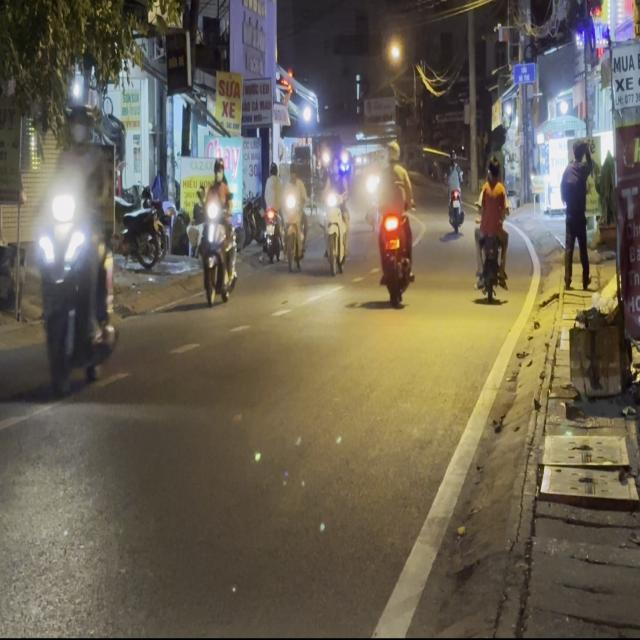helmet: (63, 98, 95, 145)
licenseplate: (24, 85, 120, 402)
